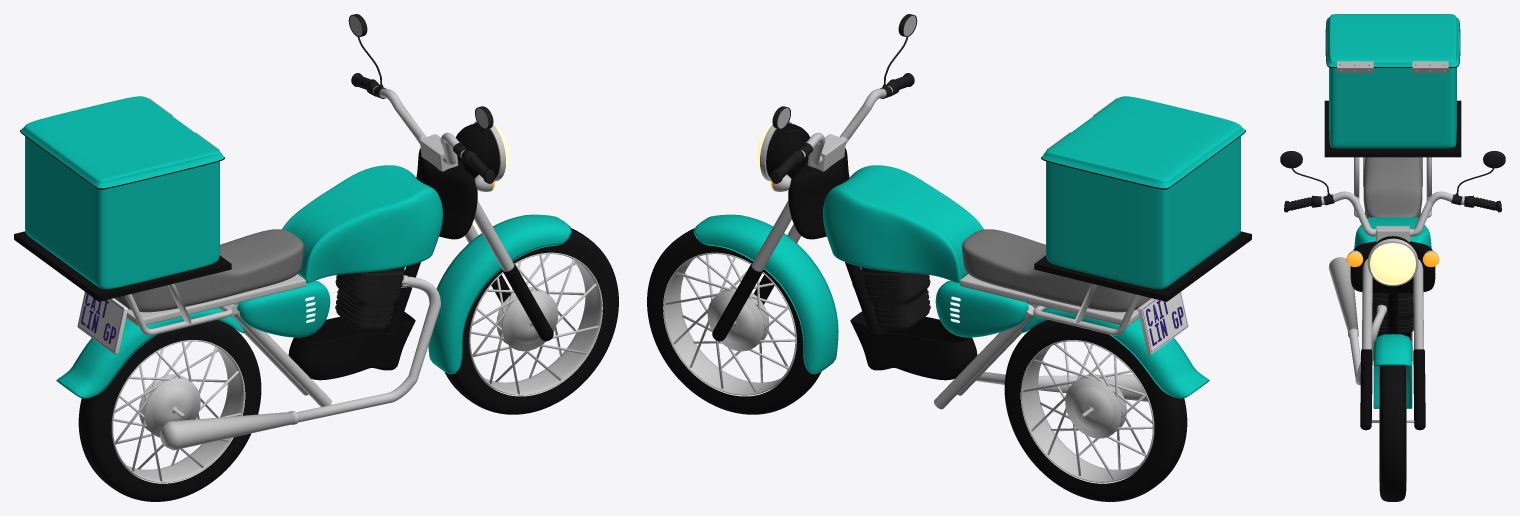
The model's file is checkers.glb.
The picture shows the model from 3 angles, left to right: view 1: azimuth 30°, elevation 25°; view 2: azimuth 150°, elevation 25°; view 3: azimuth 270°, elevation 25°; orthographic projection. The views are drawn at different scales.
Parts seen in each view (by area): view 1: Box, Fuel Tank, Lid, Back Tyre, Front Fender, Front Tyre, Seat, Front Rim, Exhaust Pipe, Back Rim, Cube, Exhaust Muffler (+18 smaller); view 2: Box, Fuel Tank, Lid, Back Tyre, Front Fender, Front Tyre, Back Rim, Seat, Front Rim, Cube, Exhaust Muffler, Back Fender (+18 smaller); view 3: Box, Lid, Front Tyre, Seat, Exhaust Pipe, Pipe 5, Support, Front Fender, Pipe 2, Front Light, Controls, Pipe 6 (+11 smaller).
Part boxes in pixels (x1,y1,x2,y2): Box: (25,136,219,289); Fuel Tank: (282,165,442,282); Lid: (20,96,224,189); Back Tyre: (78,319,261,501); Front Fender: (428,214,572,374); Front Tyre: (444,228,618,414); Seat: (114,229,303,312); Front Rim: (469,252,602,395); Exhaust Pipe: (160,275,440,450); Back Rim: (111,340,244,482); Cube: (288,312,415,380); Exhaust Muffler: (233,273,330,337); Box: (1046,136,1240,289); Fuel Tank: (823,165,983,282); Lid: (1041,96,1245,189); Back Tyre: (1004,319,1187,501); Front Fender: (693,214,838,374); Front Tyre: (647,228,821,414); Back Rim: (1021,340,1154,482); Seat: (962,229,1151,312); Front Rim: (663,252,796,395); Cube: (850,311,977,380); Exhaust Muffler: (935,273,1032,337); Back Fender: (1021,307,1209,398); Box: (1329,67,1456,148); Lid: (1325,14,1460,67); Front Tyre: (1379,365,1406,501); Seat: (1363,157,1422,218); Exhaust Pipe: (1329,257,1386,385); Pipe 5: (1360,349,1425,430); Support: (1324,100,1461,157); Front Fender: (1373,334,1412,408); Pipe 2: (1362,259,1423,349); Front Light: (1370,243,1415,284); Controls: (1350,241,1435,293); Pipe 6: (1321,191,1464,236).
Size of the model in its own units: 4.05 by 2.59 by 1.76.
Materials: 12 (1 with a texture image).
